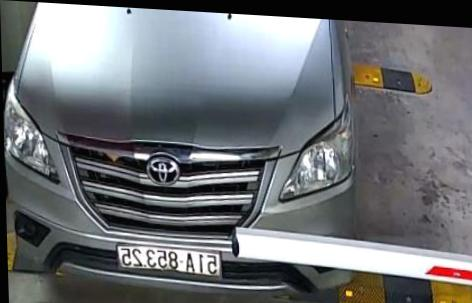License_Plate: (116, 240, 225, 282)
